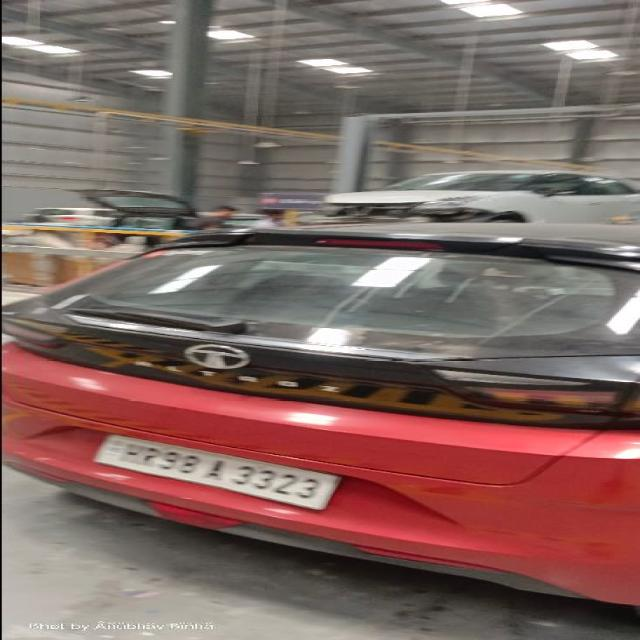license_plate: (90, 433, 344, 511)
